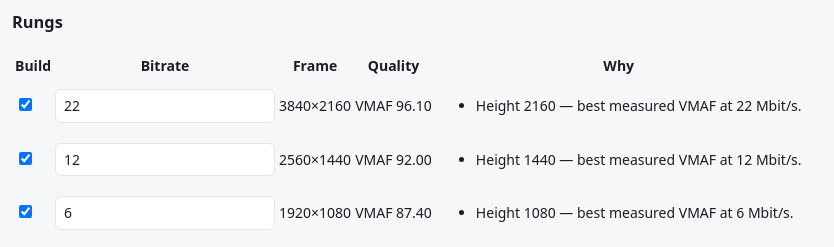
Test case: editing a rung › takes the whole rung back from the core, marked as typed by hand (T523)
Expected: the row with test id "rung-1" shows "92.00", 355,150 -> 432,168
Replace the text in the number field named "Bitrate 2" with "3" at (165, 159), box 55,142 -> 275,176
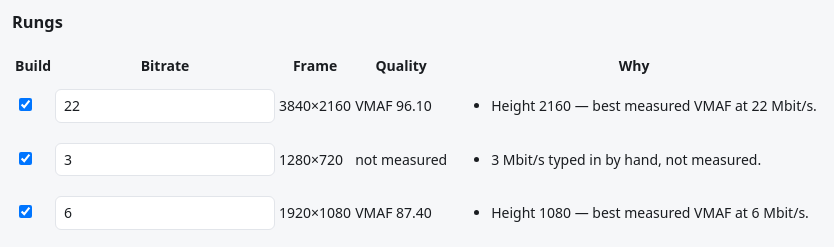
Result: the row with test id "rung-1" shows "1280×720" at 14,134 -> 818,185
Result: the row with test id "rung-1" shows "not measured" at 355,150 -> 447,168
Result: the cell with test id "why-1" shows "typed in by hand" at 491,150 -> 761,168
